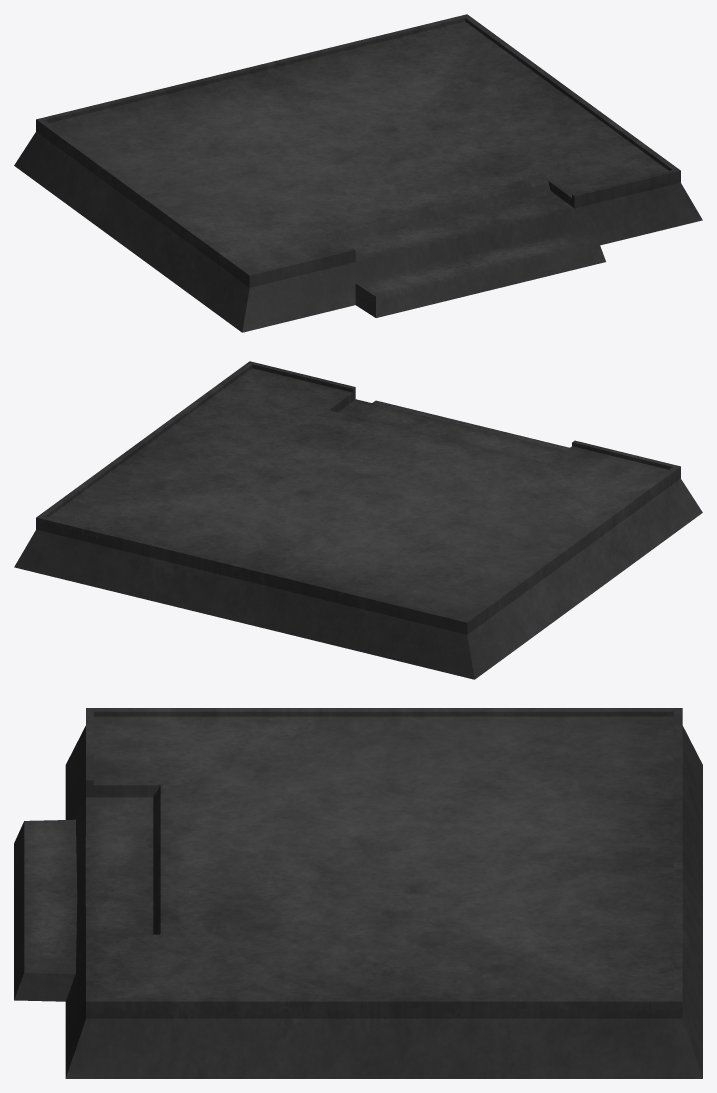
File: stage.glb
The picture shows the model from 3 angles, top to bottom: view 1: azimuth 30°, elevation 25°; view 2: azimuth 150°, elevation 25°; view 3: azimuth 270°, elevation 25°; orthographic projection. The views are drawn at different scales.
Parts seen in each view (by area): view 1: PodiumLarge; view 2: PodiumLarge; view 3: PodiumLarge.
Boxes of the visible parts, x1,y1,x2,y2 form: PodiumLarge: (14,14,702,332); PodiumLarge: (14,361,702,679); PodiumLarge: (14,708,702,1078).
Size of the model in its own units: 411 by 40.93 by 381.
Materials: 1 (1 with a texture image).
